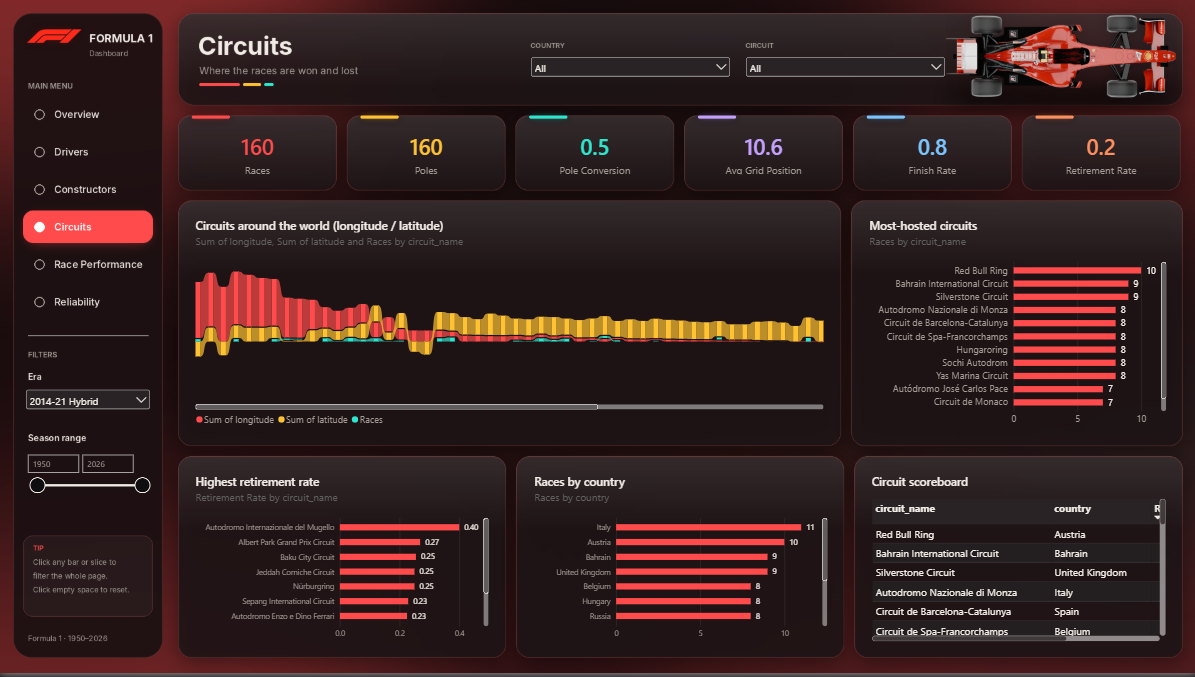

The dashboard page shown, as its layout file describes it:
{"tool":"powerbi","page":{"name":"Circuits","canvas":[1920,1080],"ordinal":3},"visuals":[{"type":"actionButton","box":[40,160,208,52],"z":1000},{"type":"actionButton","box":[40,220,208,52],"z":2000},{"type":"actionButton","box":[40,280,208,52],"z":3000},{"type":"actionButton","box":[40,340,208,52],"z":4000},{"type":"actionButton","box":[40,400,208,52],"z":5000},{"type":"actionButton","box":[40,460,208,52],"z":6000},{"type":"slicer","fields":{"Values":["dim_race.era"]},"box":[40,622,208,44],"z":7000},{"type":"slicer","fields":{"Values":["dim_race.year"]},"box":[40,725,207.5,95],"z":8000},{"type":"slicer","fields":{"Values":["dim_circuit.country"]},"box":[848,90,328,40],"z":9000},{"type":"slicer","fields":{"Values":["dim_circuit.circuit_name"]},"box":[1192,90,328,40],"z":10000},{"type":"card","fields":{"Values":["_Measures.Races"]},"box":[300,202,230,96],"z":11000},{"type":"card","fields":{"Values":["_Measures.Poles"]},"box":[570,202,230,96],"z":12000},{"type":"card","fields":{"Values":["_Measures.Pole Conversion"]},"box":[840,202,230,96],"z":13000},{"type":"card","fields":{"Values":["_Measures.Avg Grid Position"]},"box":[1110,202,230,96],"z":14000},{"type":"card","fields":{"Values":["_Measures.Finish Rate"]},"box":[1380,202,230,96],"z":15000},{"type":"card","fields":{"Values":["_Measures.Retirement Rate"]},"box":[1650,202,230,96],"z":16000},{"type":"ribbonChart","title":"Circuits around the world (longitude / latitude)","fields":{"Category":["dim_circuit.circuit_name"],"Y":["Sum(dim_circuit.longitude)","Sum(dim_circuit.latitude)","_Measures.Races"]},"box":[300,336,1037,369],"z":17000},{"type":"clusteredBarChart","title":"Most-hosted circuits","fields":{"Category":["dim_circuit.circuit_name"],"Y":["_Measures.Races"]},"box":[1377,336,507,369],"z":18000},{"type":"clusteredBarChart","title":"Highest retirement rate","fields":{"Category":["dim_circuit.circuit_name"],"Y":["_Measures.Retirement Rate"]},"box":[300,745,501,299],"z":19000},{"type":"clusteredBarChart","title":"Races by country","fields":{"Category":["dim_circuit.country"],"Y":["_Measures.Races"]},"box":[841,745,501,299],"z":20000},{"type":"tableEx","title":"Circuit scoreboard","fields":{"Values":["dim_circuit.circuit_name","dim_circuit.country","_Measures.Races","_Measures.Poles","_Measures.Pole Conversion"]},"box":[1382,745,502,299],"z":21000}]}

Visuals, with their boxes on the page's 1920x1080 design canvas (x1, y1, x2, y2). These are canvas units, not pixel positions in the 1195x677 screenshot, which may show the page scaled, cropped or inside an application window:
actionButton: (40, 160, 248, 212)
actionButton: (40, 220, 248, 272)
actionButton: (40, 280, 248, 332)
actionButton: (40, 340, 248, 392)
actionButton: (40, 400, 248, 452)
actionButton: (40, 460, 248, 512)
slicer - dim_race.era: (40, 622, 248, 666)
slicer - dim_race.year: (40, 725, 248, 820)
slicer - dim_circuit.country: (848, 90, 1176, 130)
slicer - dim_circuit.circuit_name: (1192, 90, 1520, 130)
card - _Measures.Races: (300, 202, 530, 298)
card - _Measures.Poles: (570, 202, 800, 298)
card - _Measures.Pole Conversion: (840, 202, 1070, 298)
card - _Measures.Avg Grid Position: (1110, 202, 1340, 298)
card - _Measures.Finish Rate: (1380, 202, 1610, 298)
card - _Measures.Retirement Rate: (1650, 202, 1880, 298)
"Circuits around the world (longitude / latitude)" ribbonChart: (300, 336, 1337, 705)
"Most-hosted circuits" clusteredBarChart: (1377, 336, 1884, 705)
"Highest retirement rate" clusteredBarChart: (300, 745, 801, 1044)
"Races by country" clusteredBarChart: (841, 745, 1342, 1044)
"Circuit scoreboard" tableEx: (1382, 745, 1884, 1044)
